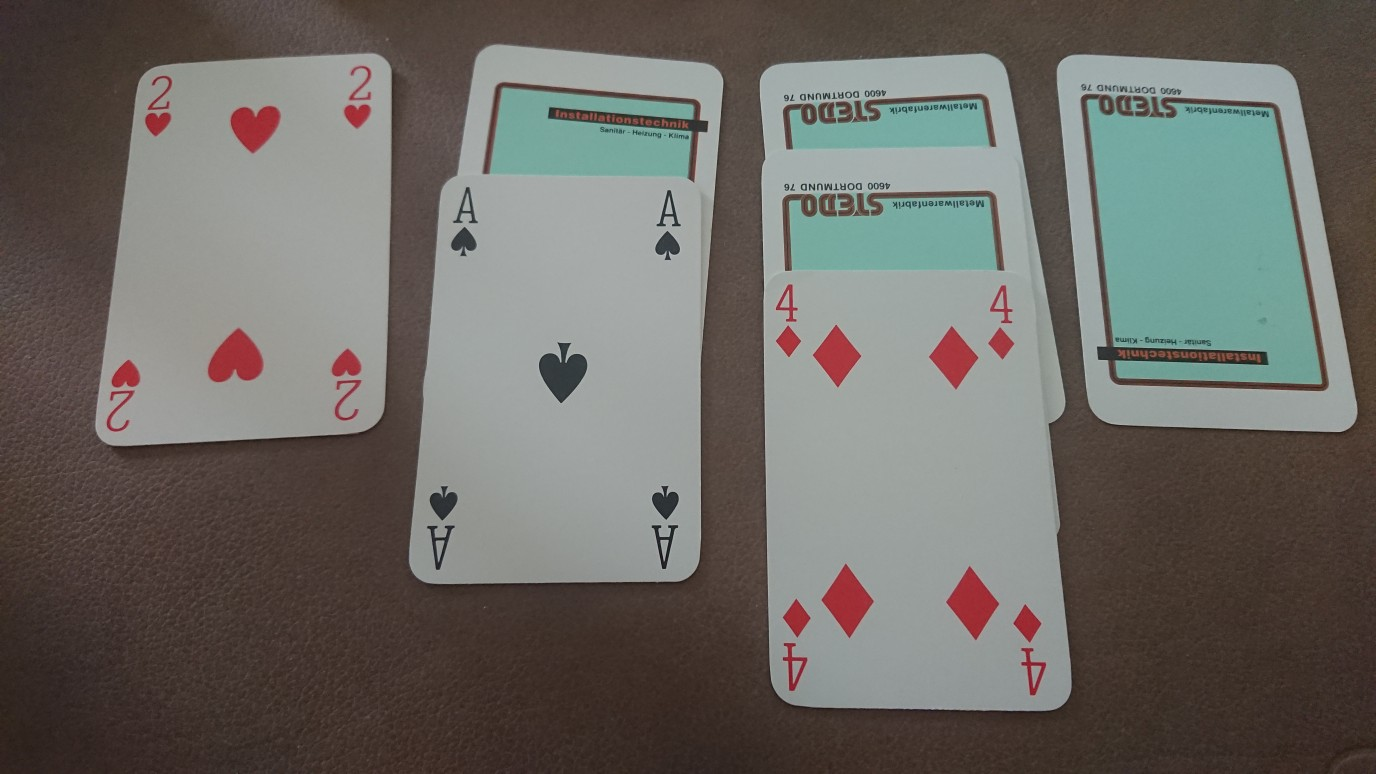2H: (142, 68, 178, 141), (341, 60, 377, 132)
4D: (772, 277, 807, 365), (985, 282, 1020, 364)
AS: (651, 183, 687, 266), (448, 182, 483, 266)
BACK: (1052, 52, 1361, 438), (456, 41, 726, 178), (761, 149, 1031, 271), (756, 51, 1023, 149)
